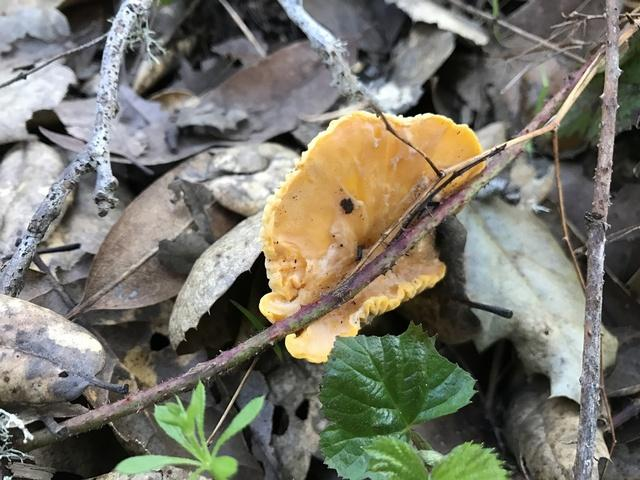Edible Mushroom: (257, 108, 487, 364)
